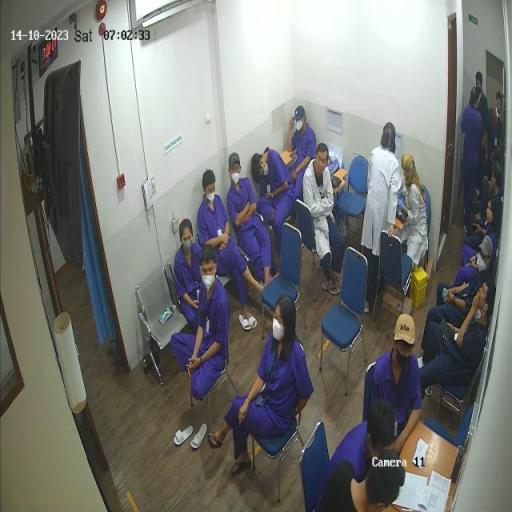person: (210, 296, 311, 477), (198, 171, 265, 330), (419, 235, 494, 369), (417, 281, 496, 401), (172, 244, 231, 402), (321, 400, 396, 512), (371, 313, 424, 463), (228, 154, 281, 295), (364, 123, 401, 312), (304, 144, 347, 296), (319, 451, 405, 512), (252, 148, 295, 267), (454, 195, 501, 298), (466, 164, 503, 274), (175, 219, 209, 337), (399, 153, 428, 283), (461, 88, 483, 235), (288, 106, 318, 204), (485, 91, 504, 201), (474, 72, 489, 180)
